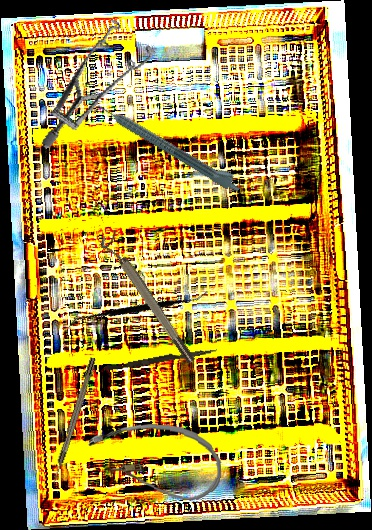Cannula: (85, 419, 224, 503)
Fixation Ring: (97, 229, 198, 370)
Handpiece: (95, 95, 245, 195)
Hook Surgical: (49, 357, 98, 485)
Pusher: (105, 344, 218, 374)
Spatula Surgical: (65, 239, 211, 381)
Speculum: (12, 9, 174, 150)
